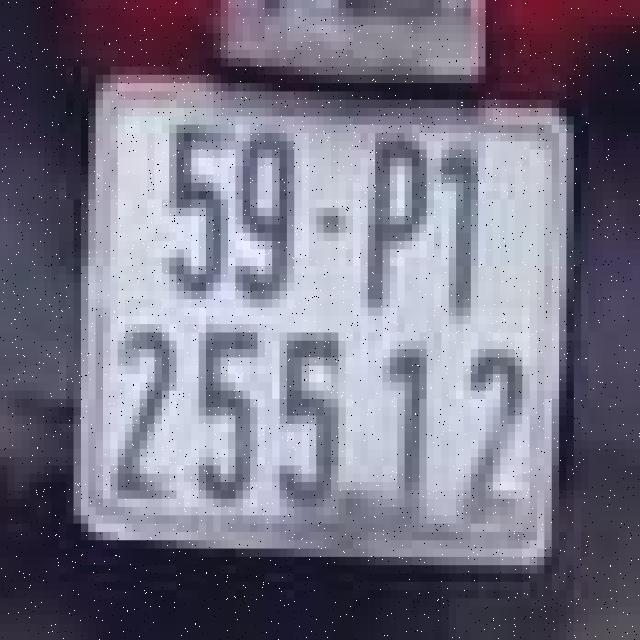1: (376, 328, 442, 528), (434, 121, 493, 320)
2: (452, 332, 541, 524), (99, 320, 188, 511)
5: (188, 312, 261, 520), (276, 320, 349, 519), (166, 116, 232, 308)
9: (228, 108, 302, 308)
P: (357, 120, 430, 337)
